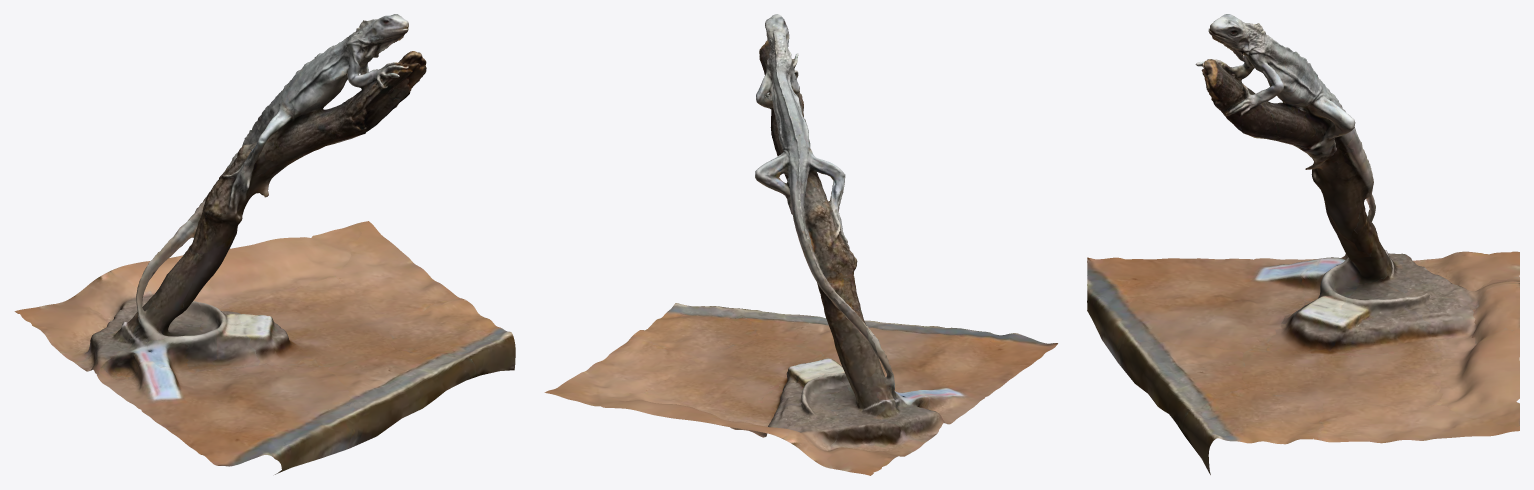
Rendered from Iguana-compressed.glb.
3 views of the same model, side by side, from view 1: azimuth 30°, elevation 25°; view 2: azimuth 150°, elevation 25°; view 3: azimuth 270°, elevation 25° (orthographic). The views are drawn at different scales.
Parts seen in each view (by area): view 1: Iguana.usdz; view 2: Iguana.usdz; view 3: Iguana.usdz.
Boxes of the visible parts, x1,y1,x2,y2 form: Iguana.usdz: (14, 14, 515, 474); Iguana.usdz: (544, 14, 1057, 475); Iguana.usdz: (1087, 14, 1519, 474).
Bounding box in the file's own units: 0.3602 × 0.3665 × 0.3593.
Materials: 1 (1 with a texture image).
